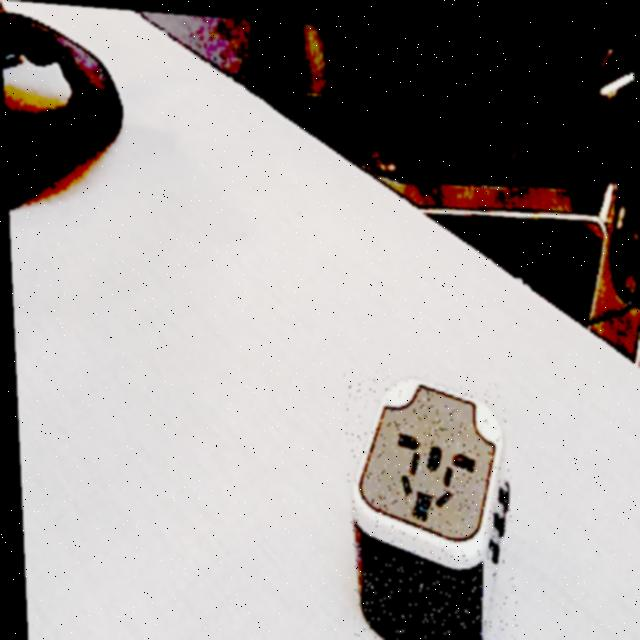adapter: (339, 363, 514, 640)
